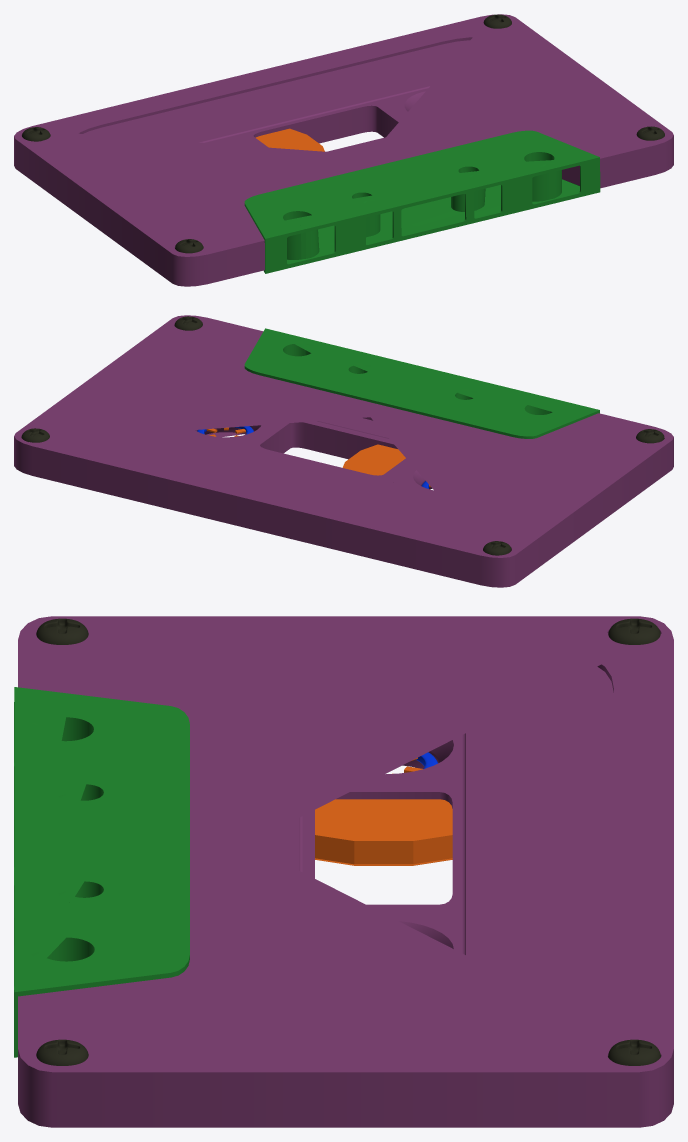
File: Casette_tape.fbx
The picture shows the model from 3 angles, top to bottom: view 1: azimuth 30°, elevation 25°; view 2: azimuth 150°, elevation 25°; view 3: azimuth 270°, elevation 25°; orthographic projection. The views are drawn at different scales.
Parts seen in each view (by area): view 1: Cube.001, Cube.002, Circle.002; view 2: Cube.001, Cube.002, Circle.002; view 3: Cube.001, Cube.002, Circle.002, Screw1.001, Screw1, Screw2, Screw2.001.
Part boxes in pixels (bbox=[...]): Cube.001: bbox=[14, 14, 673, 286]; Cube.002: bbox=[244, 130, 600, 273]; Circle.002: bbox=[255, 128, 324, 151]; Cube.001: bbox=[14, 315, 673, 587]; Cube.002: bbox=[244, 328, 599, 438]; Circle.002: bbox=[342, 444, 405, 475]; Cube.001: bbox=[18, 616, 673, 1127]; Cube.002: bbox=[14, 687, 189, 1057]; Circle.002: bbox=[315, 799, 452, 865]; Screw1.001: bbox=[608, 1039, 660, 1065]; Screw1: bbox=[608, 618, 660, 644]; Screw2: bbox=[36, 618, 88, 644]; Screw2.001: bbox=[36, 1039, 88, 1065].
Size of the model in its own units: 1566 by 113 by 958.
